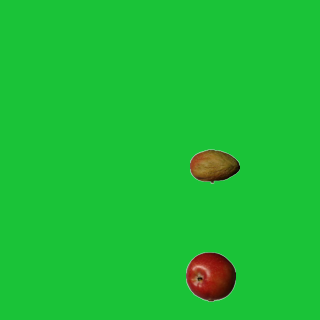Apple Braeburn: (185, 251, 235, 301)
Papaya: (189, 141, 239, 191)
